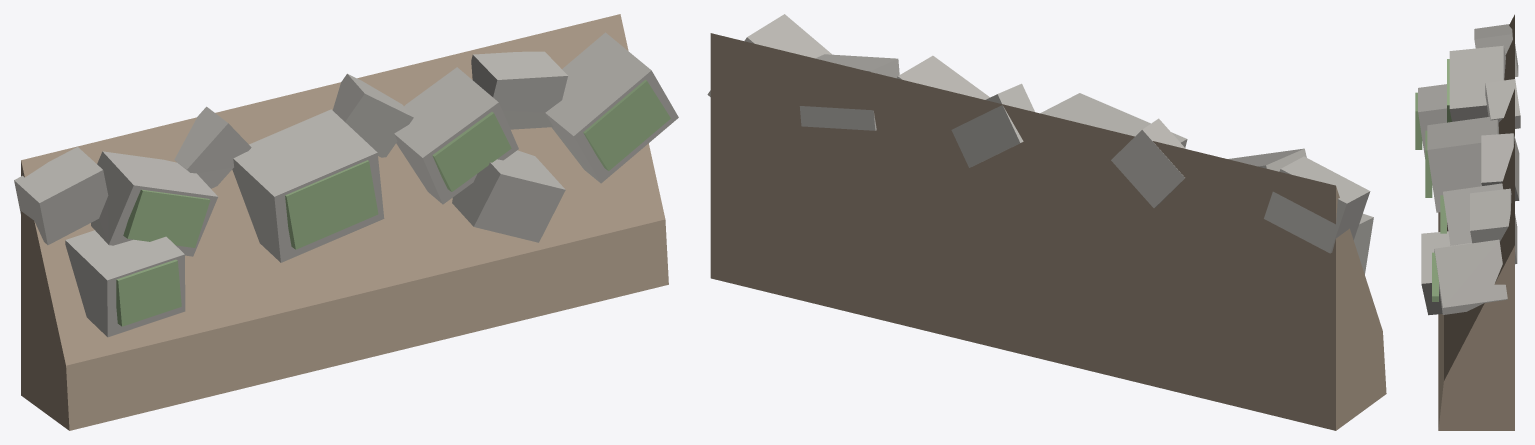
The model's file is r-12-prygl-granite-rocky-shore.glb.
3 views of the same model, side by side, from view 1: azimuth 30°, elevation 25°; view 2: azimuth 150°, elevation 25°; view 3: azimuth 270°, elevation 25° (orthographic). The views are drawn at different scales.
Parts seen in each view (by area): view 1: soil-slope, rocks, moss-caps; view 2: soil-slope, rocks; view 3: rocks, soil-slope, moss-caps.
Part boxes in pixels (x1=…): soil-slope: x1=21, y1=14, x2=668, y2=430; rocks: x1=14, y1=32, x2=678, y2=337; moss-caps: x1=116, y1=79, x2=670, y2=326; soil-slope: x1=710, y1=33, x2=1386, y2=430; rocks: x1=707, y1=14, x2=1373, y2=274; rocks: x1=1418, y1=24, x2=1520, y2=315; soil-slope: x1=1438, y1=14, x2=1514, y2=430; moss-caps: x1=1415, y1=59, x2=1451, y2=301.
Bounding box in the file's own units: 20720 × 7768 × 3844.
